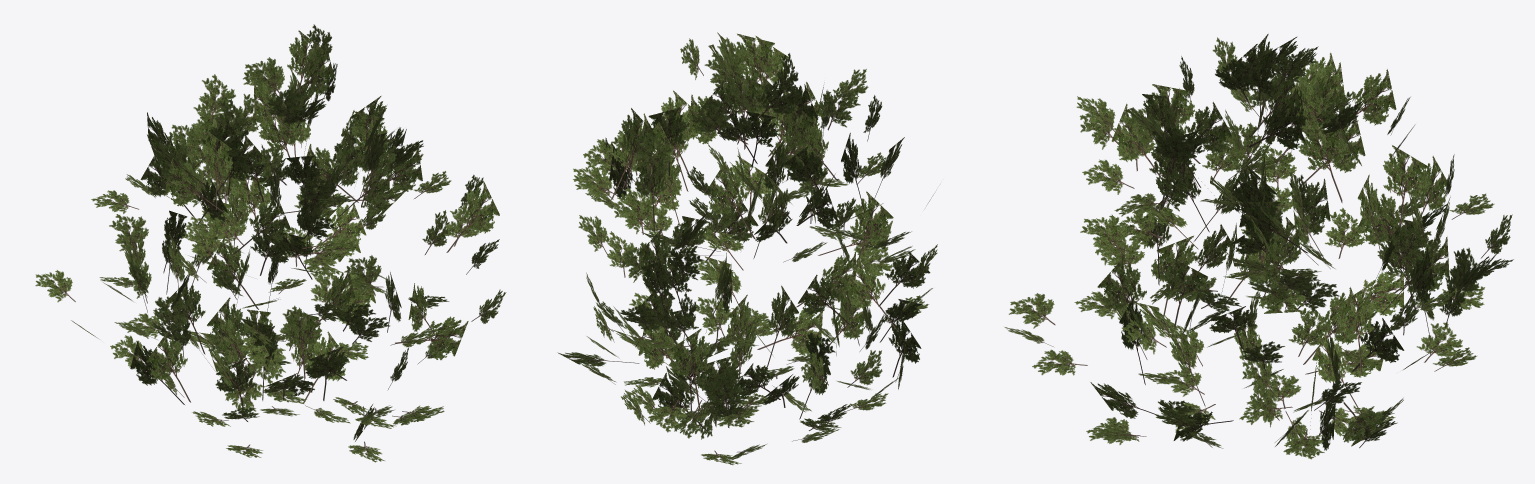
File: conifer_shrub_0_lod1.glb
3 views of the same model, side by side, from view 1: azimuth 30°, elevation 25°; view 2: azimuth 150°, elevation 25°; view 3: azimuth 270°, elevation 25° (orthographic). The views are drawn at different scales.
Visible parts, largest first — view 1: ConiferousShrub; view 2: ConiferousShrub; view 3: ConiferousShrub.
Boxes of the visible parts, x1,y1,x2,y2 form: ConiferousShrub: (35,24,506,462); ConiferousShrub: (557,32,937,465); ConiferousShrub: (1004,34,1513,459).
Bounding box in the file's own units: 10.57 × 10.02 × 10.99.
Materials: 1 (1 with a texture image).
